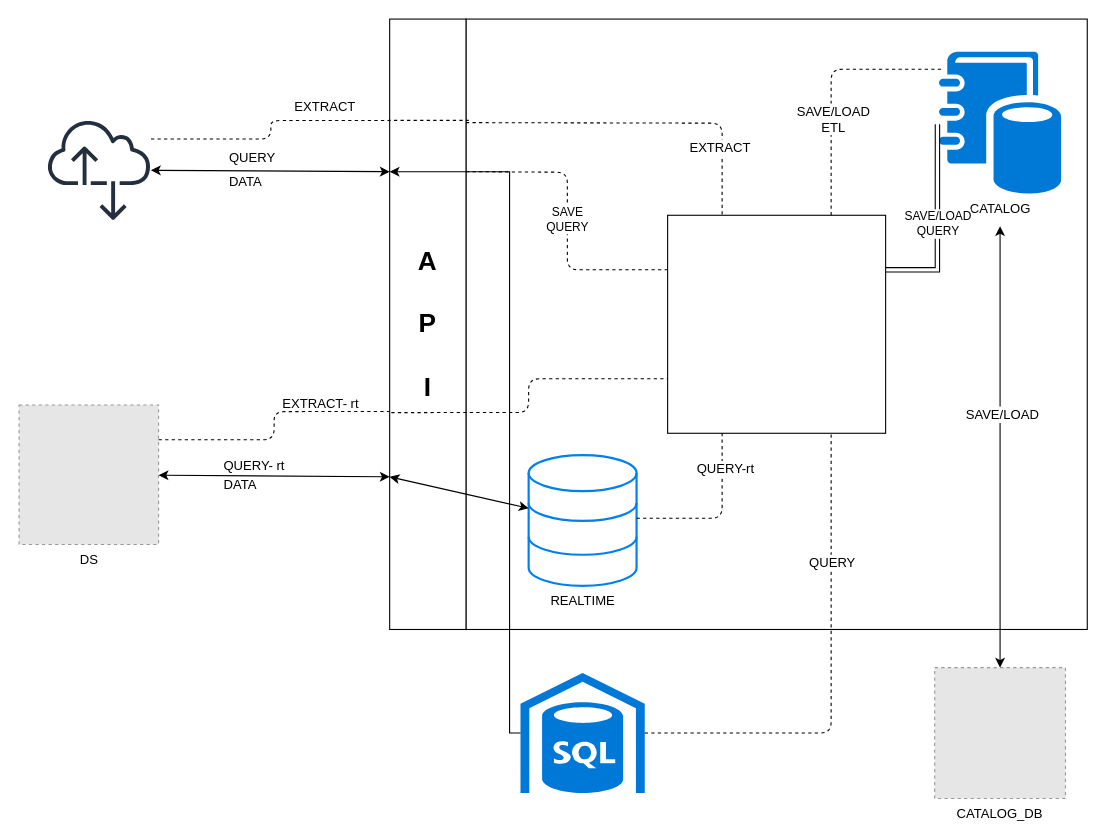
The diagram is 1106 pixels wide and 840 high, and some of its shapes have lost their labels. Grey dashed boxes stand in for pictures. The box of each missing label's shape, as (x1, y1, x2, y2) in pixels:
BE: (47, 118, 150, 221)
FeatureExtraction: (667, 214, 886, 433)
WAREHOUSE: (520, 673, 644, 792)
